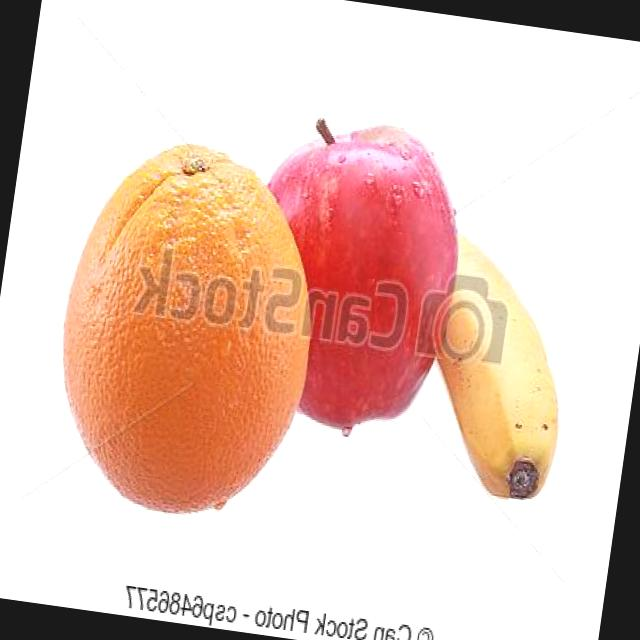apple: (225, 101, 488, 458)
banana: (358, 157, 602, 520)
orange: (43, 130, 339, 536)
